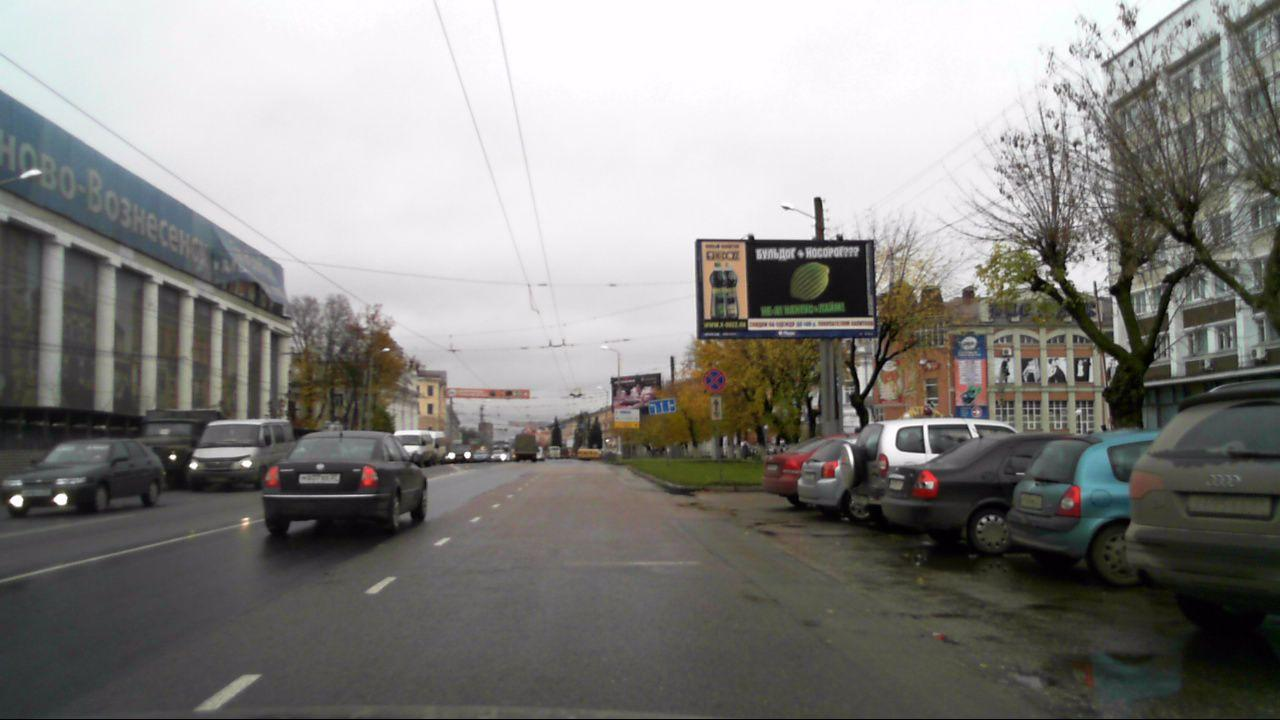road_sign: (703, 368, 726, 394), (648, 398, 676, 416), (710, 396, 722, 420)
